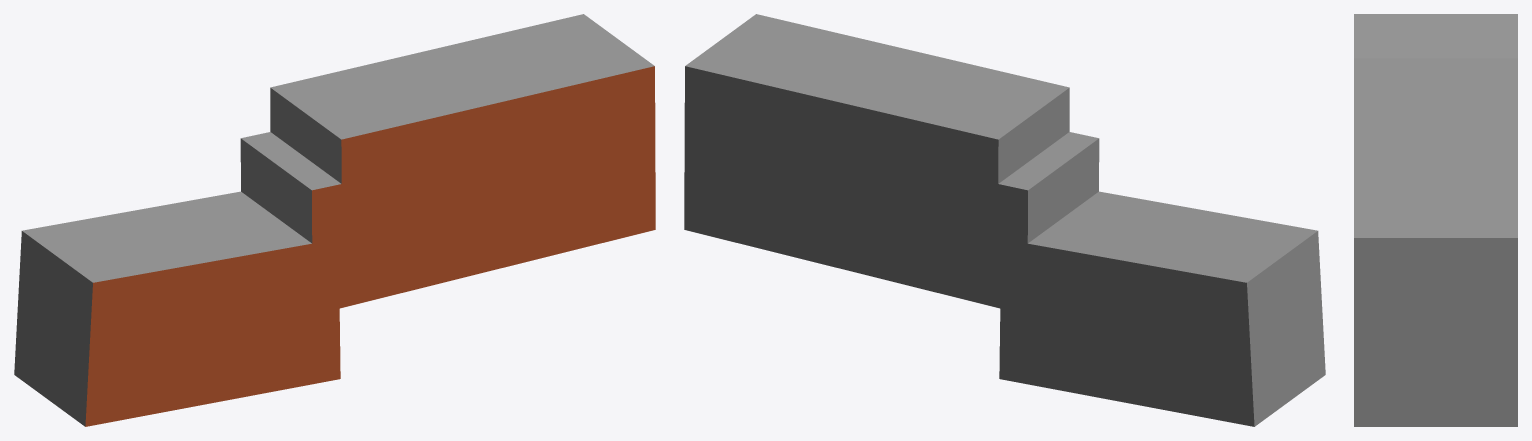
File: construction_2392_assumed_A_Casa_h6m.obj
3 renders of one model, left to right at view 1: azimuth 30°, elevation 25°; view 2: azimuth 150°, elevation 25°; view 3: azimuth 270°, elevation 25°, orthographic. The views are drawn at different scales.
Visible parts, largest first — view 1: construction_2392_assumed_A_Casa; view 2: construction_2392_assumed_A_Casa; view 3: construction_2392_assumed_A_Casa.
Part boxes in pixels (x1,y1,x2,y2): construction_2392_assumed_A_Casa: [14, 14, 655, 426]; construction_2392_assumed_A_Casa: [684, 14, 1325, 426]; construction_2392_assumed_A_Casa: [1354, 14, 1517, 426].
Bounding box in the file's own units: 27.74 × 11.12 × 6.
